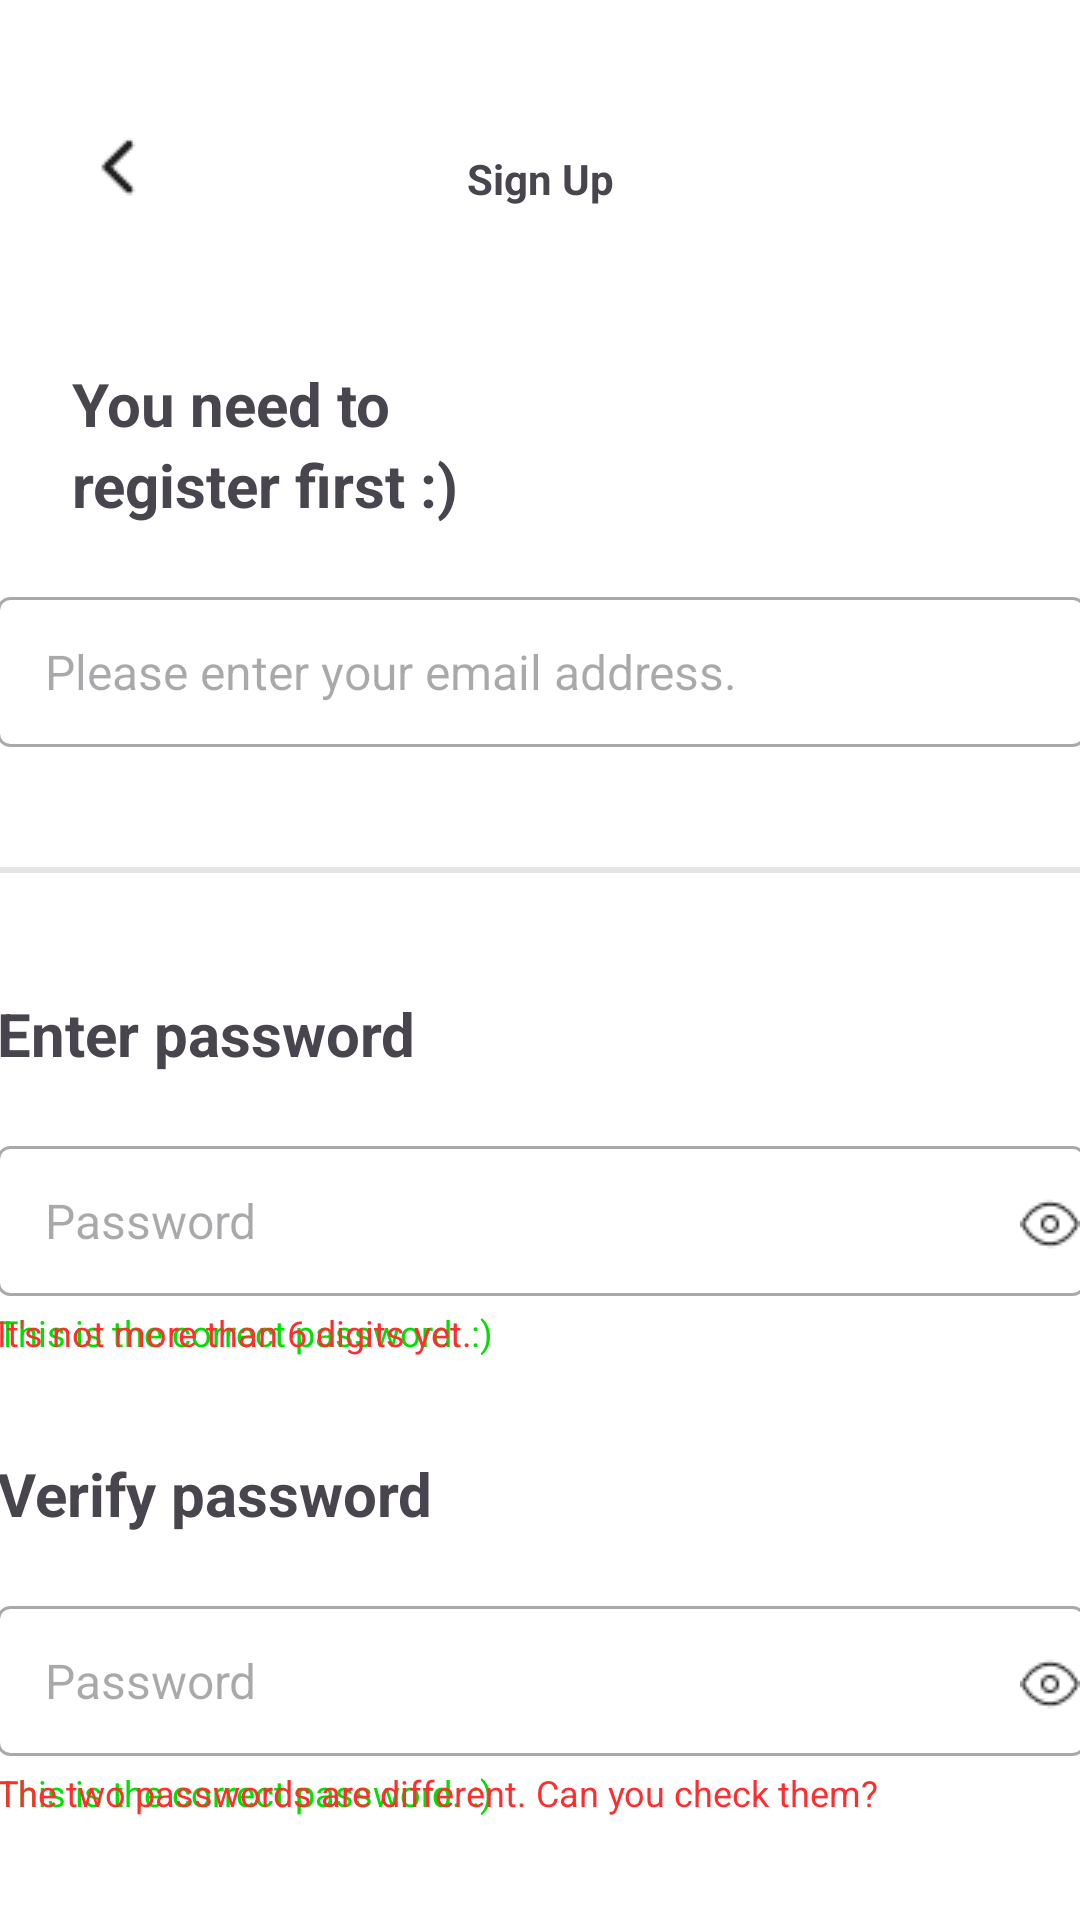

Icon click points for this 1080 x 1920 phone screenshot, format (x=x, y=y):
back: (x=118, y=167)
eye: (x=1050, y=1224), (x=1050, y=1684)
